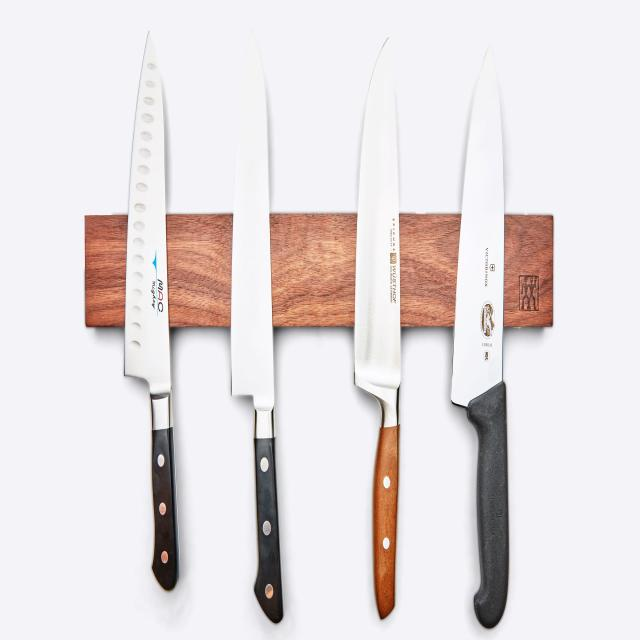Knife: (344, 25, 411, 637)
